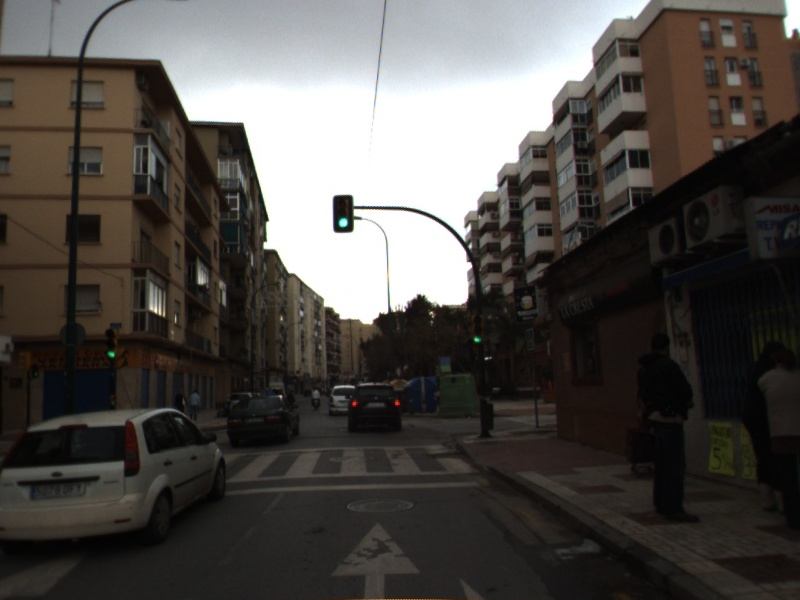STRAIGHT: (328, 519, 422, 600)
